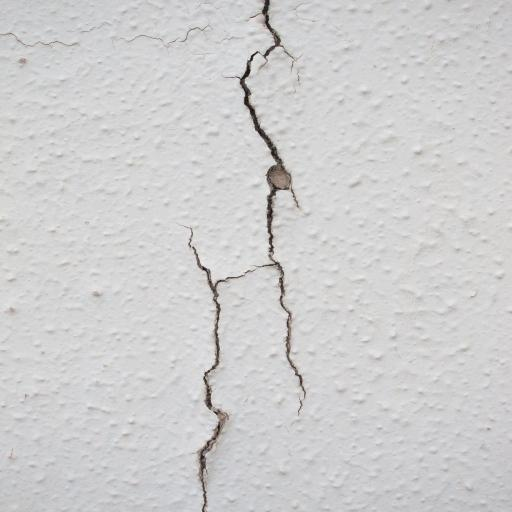spalling: (222, 2, 313, 415), (178, 215, 236, 511)
